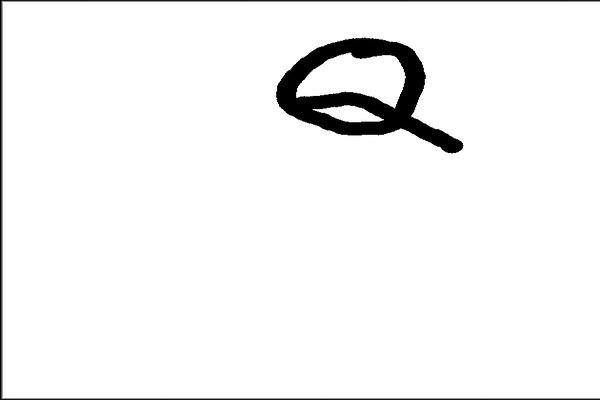Q: (268, 31, 449, 161)
